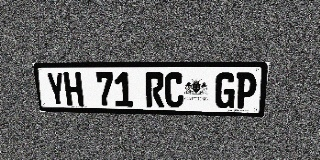1: (113, 72, 133, 107)
7: (95, 72, 115, 107)
C: (165, 73, 184, 108)
G: (215, 73, 236, 109)
H: (63, 72, 84, 106)
P: (235, 73, 257, 109)
R: (145, 73, 164, 107)
Y: (46, 72, 67, 106)
